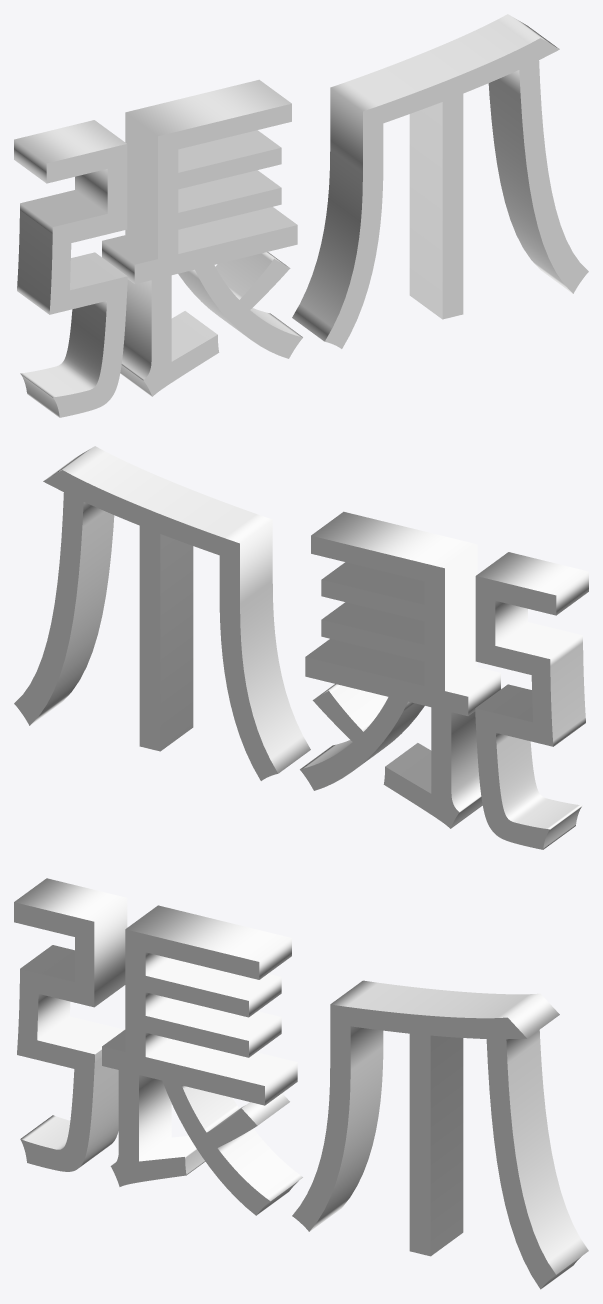
The model's file is GameTitle.gltf.
The picture shows the model from 3 angles, top to bottom: view 1: azimuth 30°, elevation 25°; view 2: azimuth 150°, elevation 25°; view 3: azimuth 330°, elevation 25°; orthographic projection.
Parts seen in each view (by area): view 1: テキスト; view 2: テキスト; view 3: テキスト.
Part boxes in pixels (box(x1,y1,x2,y2)): テキスト: box(14, 14, 588, 417); テキスト: box(14, 446, 588, 849); テキスト: box(14, 878, 588, 1289).
Bounding box in the file's own units: 1.91 × 0.892 × 0.2.
1 material, 1 textured.
